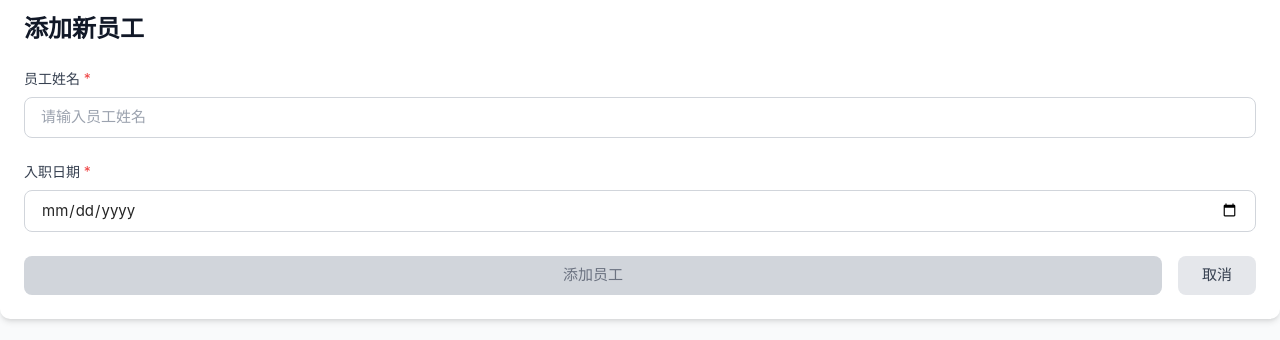
Test case: EmployeeForm.vue › 提交按钮状态 › 姓名和入职日期都填写时提交按钮应该可用
The width and height of the screenshot is (1280, 340).
Type "张三" into the field with id "name" at [640, 117], box [24,97,1256,138]
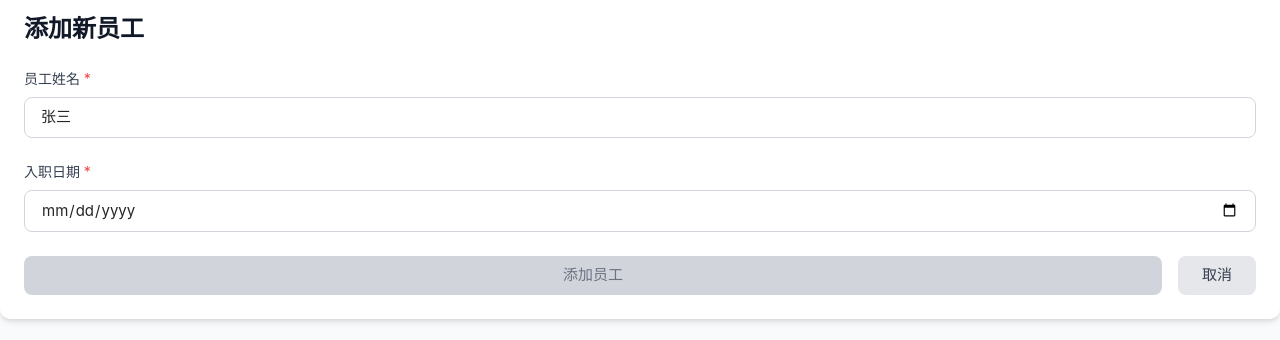
Type "2023-05-15" into the date field with id "hireDate" at [640, 211], box [24,190,1256,232]
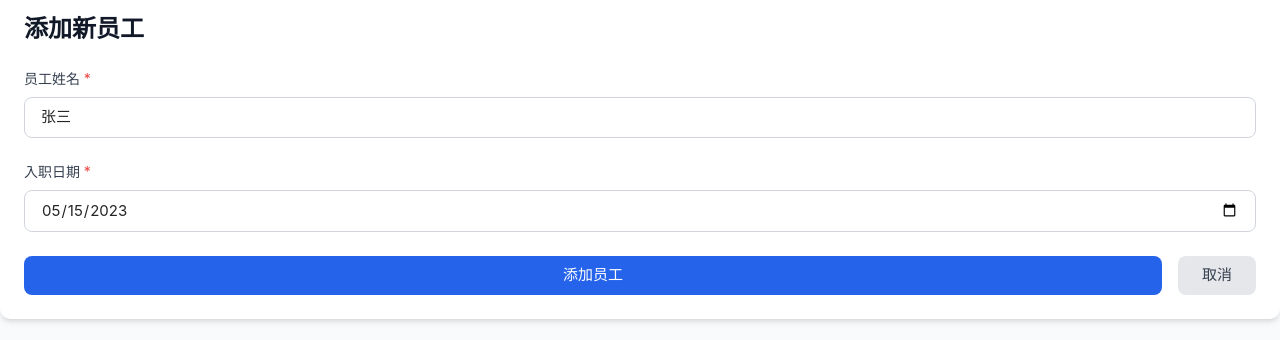
Expected: the submit button is enabled, [24,256,1162,294]
